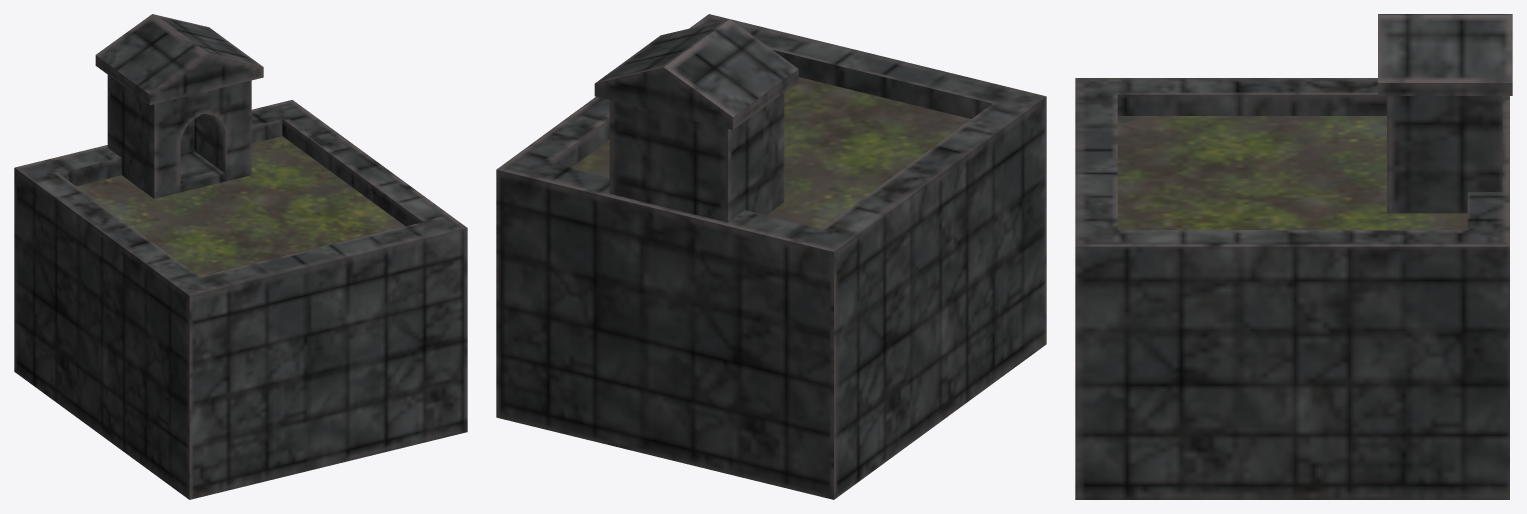
Rendered from Tombstone with house.fbx.
The picture shows the model from 3 angles, left to right: view 1: azimuth 30°, elevation 25°; view 2: azimuth 150°, elevation 25°; view 3: azimuth 270°, elevation 25°; orthographic projection. The views are drawn at different scales.
Visible parts, largest first — view 1: Cube.002; view 2: Cube.002; view 3: Cube.002.
Part boxes in pixels (<box>): Cube.002: <box>14,14,467,499</box>; Cube.002: <box>496,14,1046,499</box>; Cube.002: <box>1075,14,1512,499</box>.
Bounding box in the file's own units: 200 × 222 × 219.
